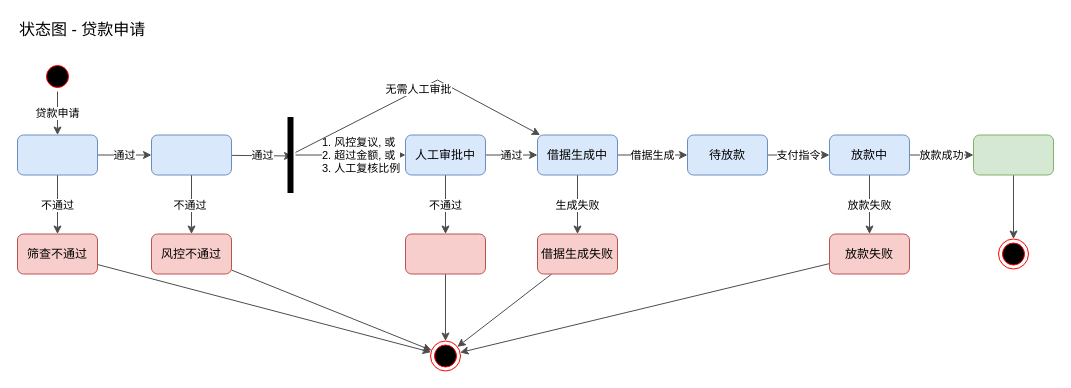
The diagram is 1071 pixels wide and 388 high, and some of its shapes have lost their labels. The shapes that lost their labels are listed below. From the top down, each one's box as (x1, y1, x2, y2) in pixels, then its label:
(16, 134, 98, 175): 筛查中
(150, 134, 232, 175): 风控评分中
(972, 134, 1054, 175): 申请通过
(404, 233, 486, 274): 人工审批 不通过
